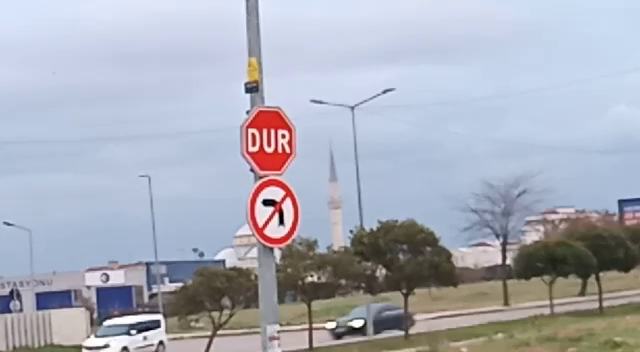no_left: (244, 174, 303, 251)
stop: (237, 103, 301, 177)
